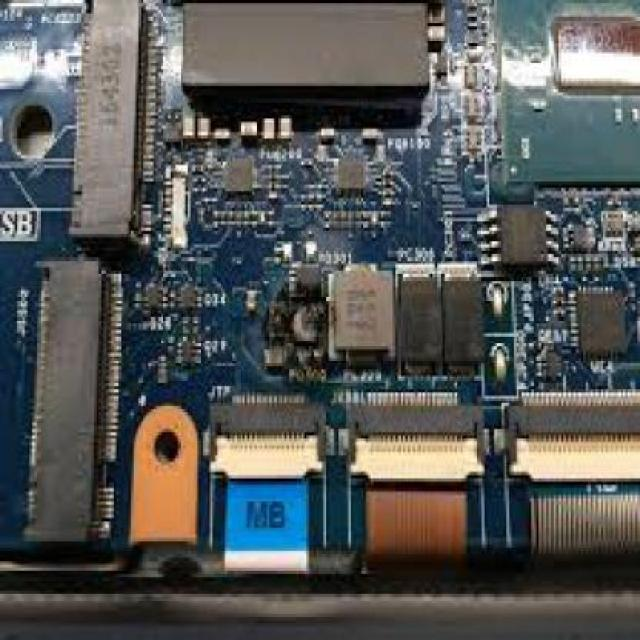Burn: (258, 257, 400, 374)
